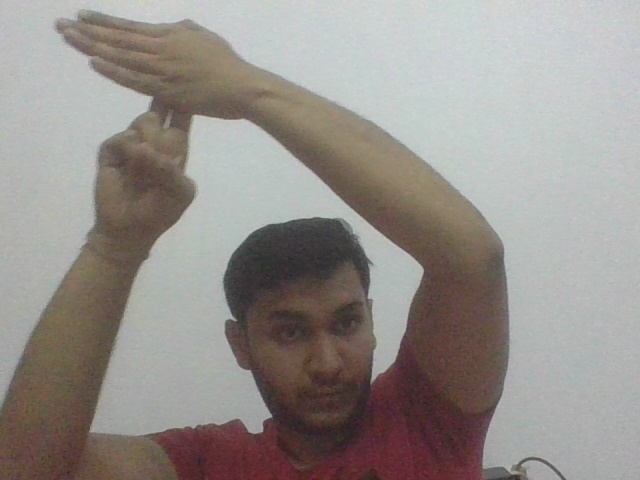N: (53, 8, 245, 141)
